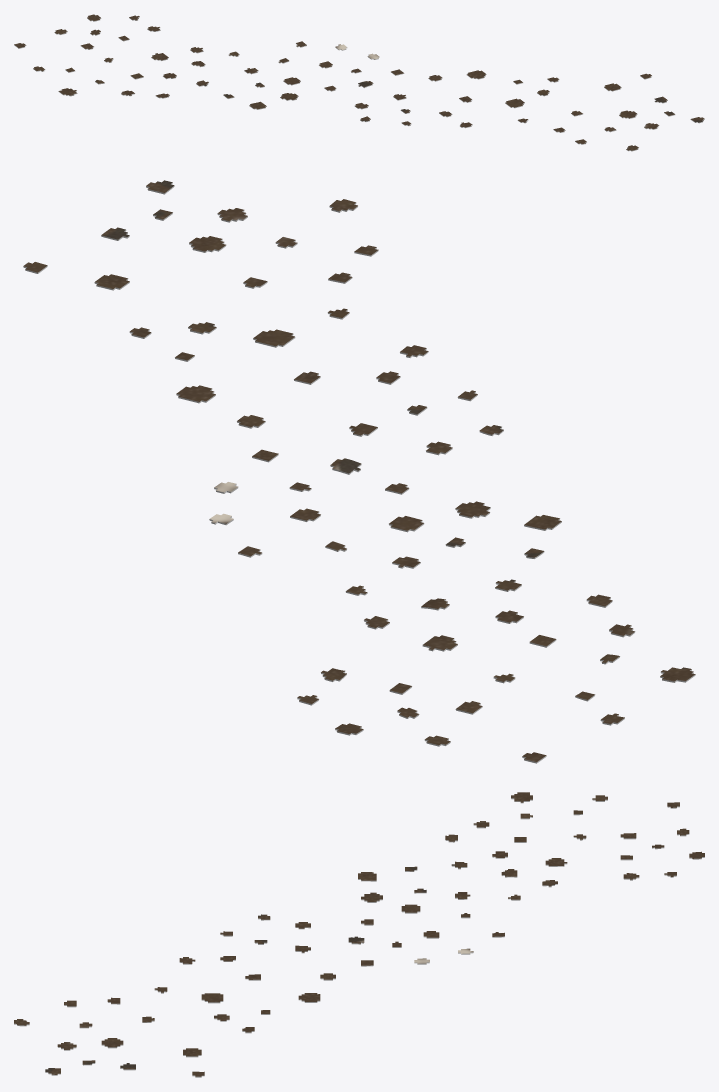
Rendered from PantanoTapas.glb.
3 views of the same model, one above another, from view 1: azimuth 30°, elevation 25°; view 2: azimuth 150°, elevation 25°; view 3: azimuth 270°, elevation 25° (orthographic). The views are drawn at different scales.
Size of the model in its own units: 186 by 1.28 by 191.
2 materials, 1 textured.
